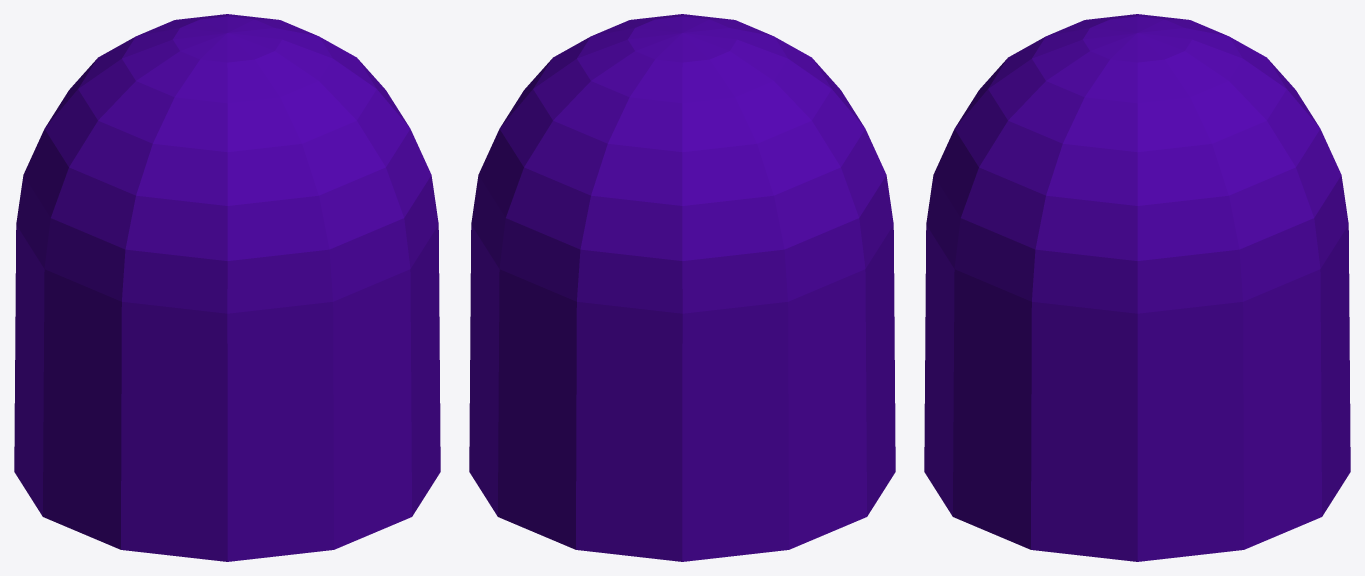
Rendered from Cage_01_Ironworks.fbx.
The picture shows the model from 3 angles, left to right: view 1: azimuth 30°, elevation 25°; view 2: azimuth 150°, elevation 25°; view 3: azimuth 270°, elevation 25°; orthographic projection.
Parts seen in each view (by area): view 1: Cage_01_Ironworks; view 2: Cage_01_Ironworks; view 3: Cage_01_Ironworks.
Part boxes in pixels (x1,y1,x2,y2): Cage_01_Ironworks: (14, 14, 440, 561); Cage_01_Ironworks: (469, 14, 895, 561); Cage_01_Ironworks: (924, 14, 1350, 561).
Size of the model in its own units: 43.99 by 49.96 by 43.99.
